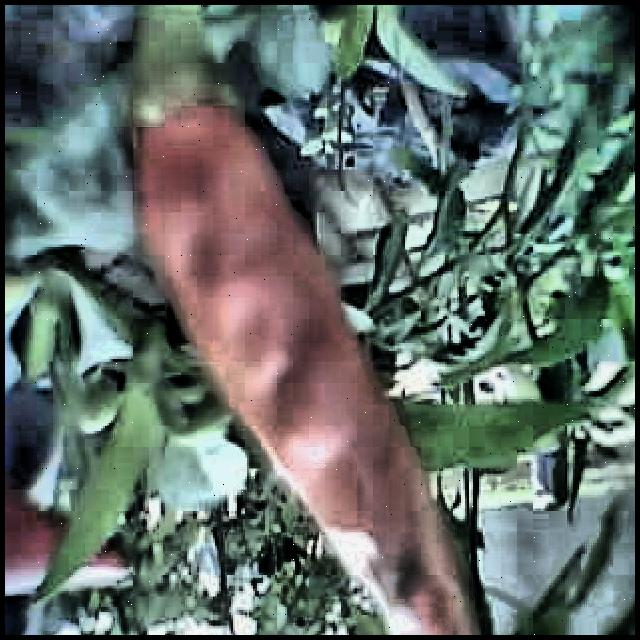Cabai: (139, 5, 503, 635)
